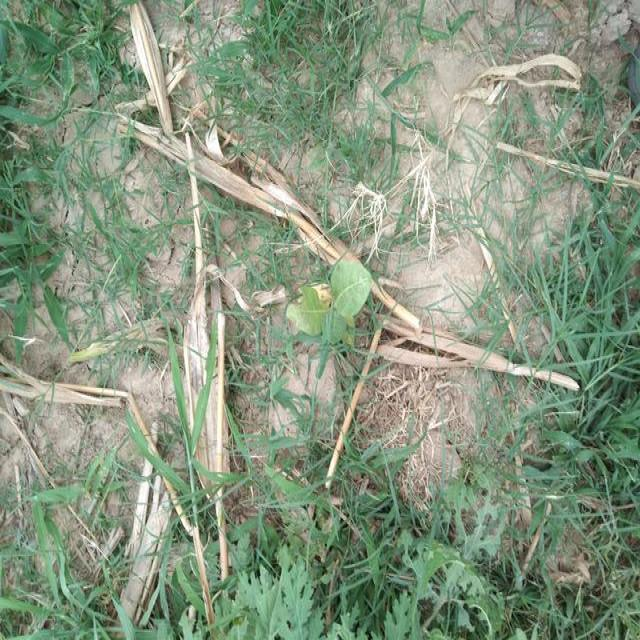crop: (295, 238, 379, 352)
